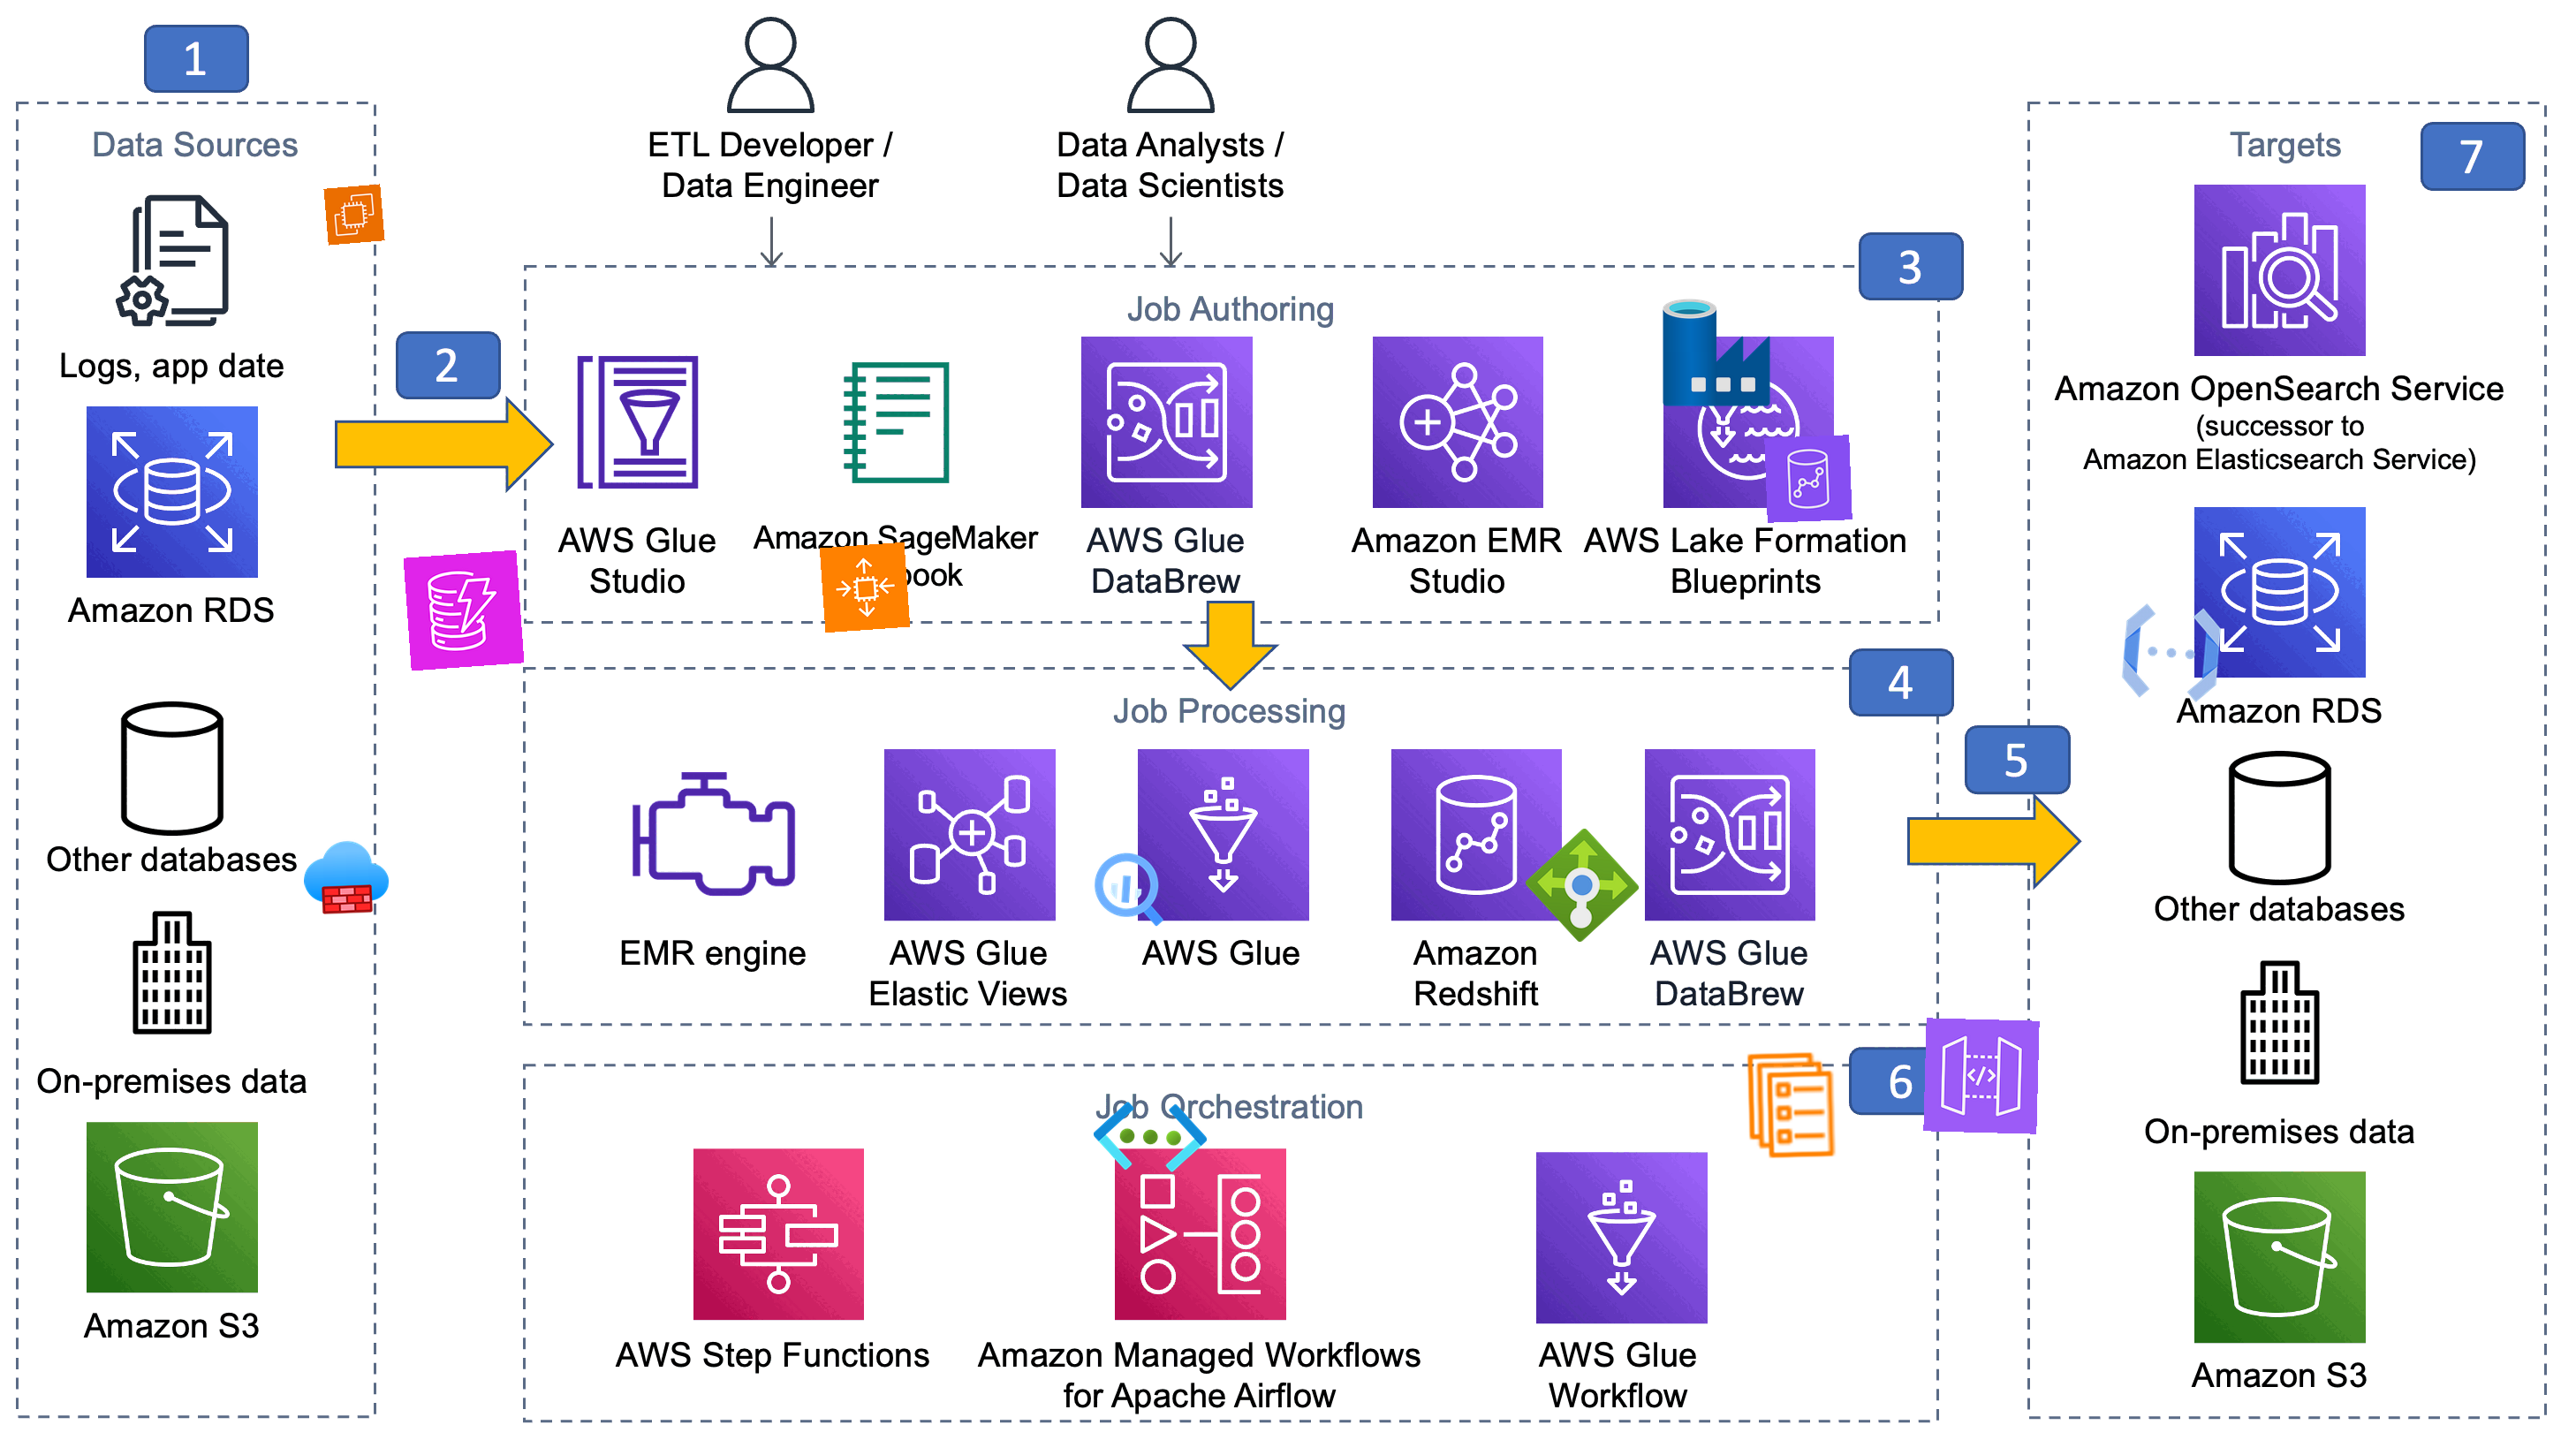aws_amazon_api_gateway: (1923, 1017, 2040, 1134)
aws_amazon_dynamodb: (403, 550, 525, 672)
aws_amazon_ec2: (324, 184, 386, 246)
aws_amazon_ec2_auto_scaling: (819, 541, 911, 633)
aws_amazon_redshift: (1764, 435, 1852, 524)
aws_elastic_container_service_service: (1734, 1047, 1851, 1164)
azure_data_factories: (1660, 295, 1775, 410)
azure_firewalls: (303, 833, 391, 922)
azure_load_balancers: (1523, 826, 1642, 945)
azure_virtual_networks: (1092, 1077, 1210, 1196)
gcp_bigquery: (1085, 842, 1177, 934)
gcp_cloud_functions: (2109, 591, 2233, 715)
